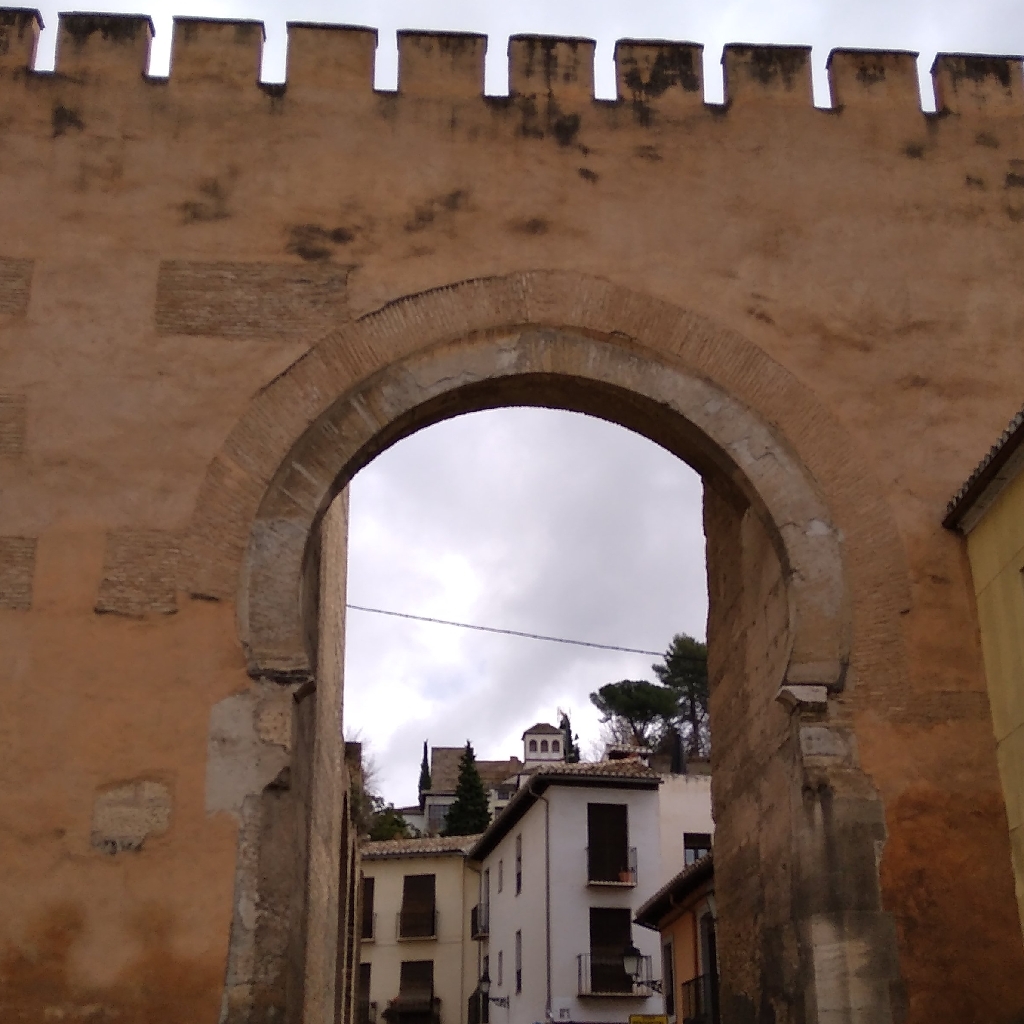arco-herradura: (275, 342, 836, 740)
